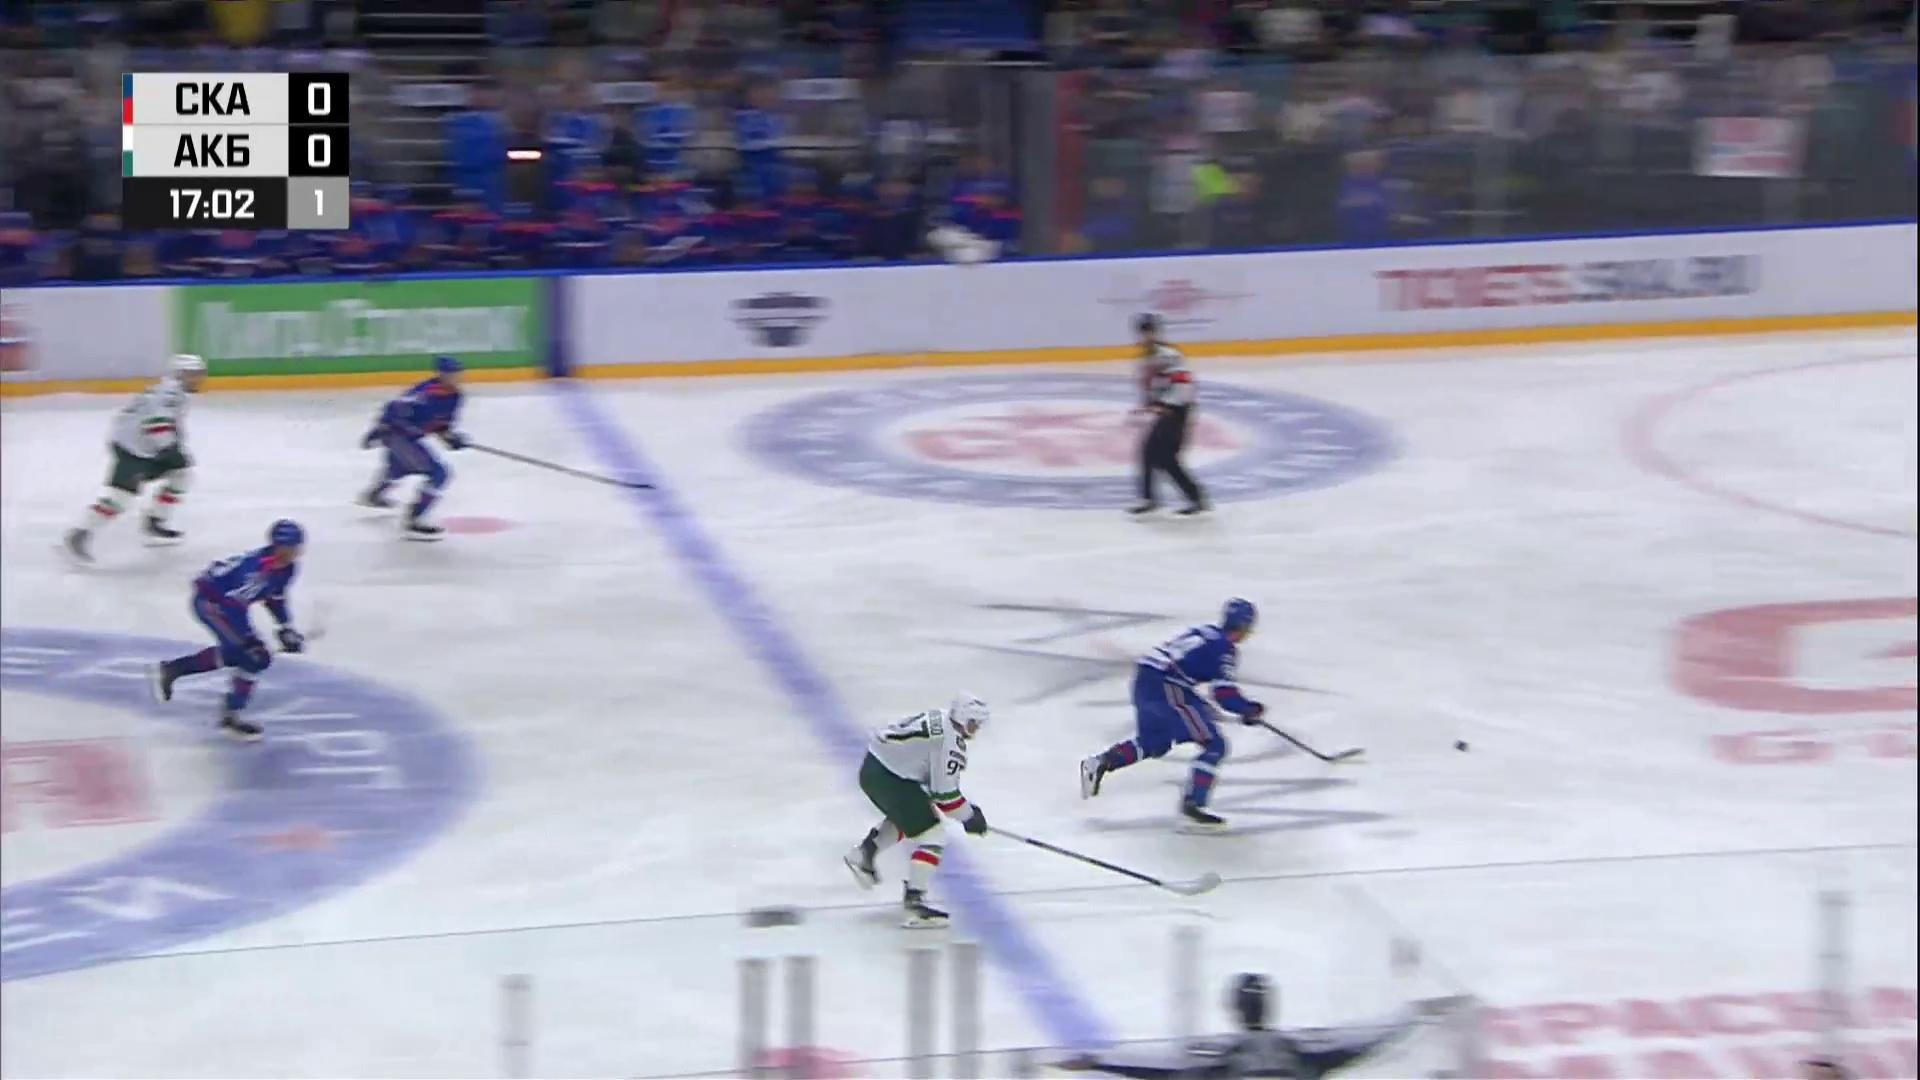ball: (1453, 740, 1469, 753)
